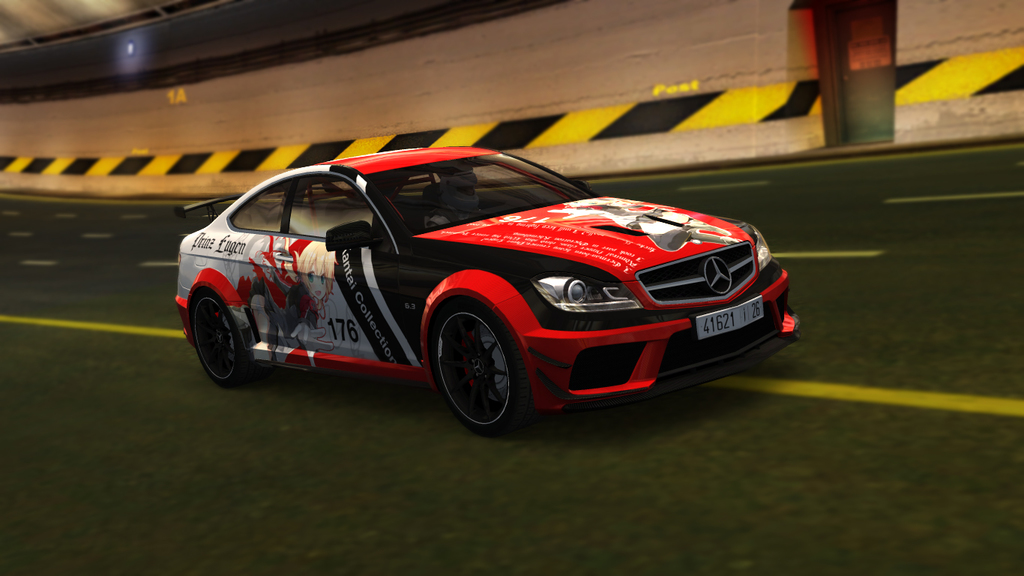mobil: (147, 172, 810, 440)
